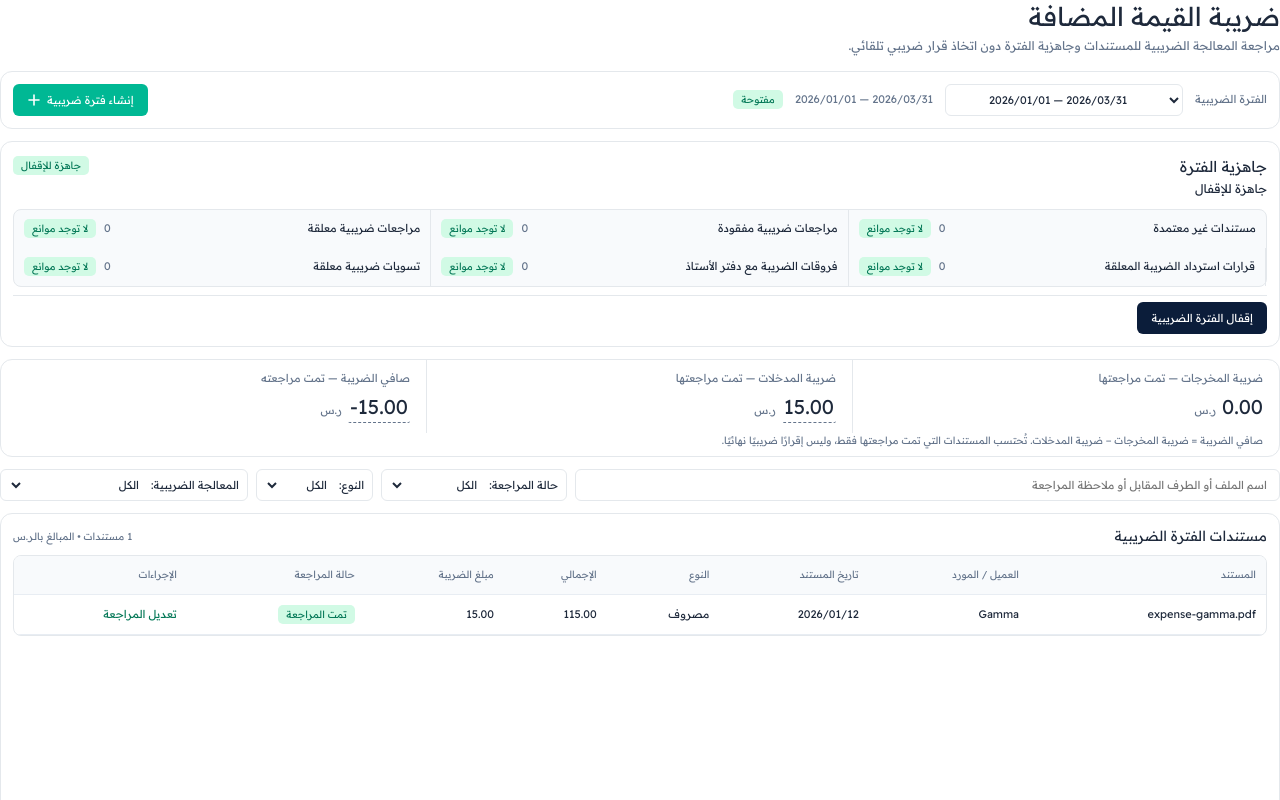
Test case: VAT review workspace › labels the recoverability workflow in Arabic
Click the cell "expense-gamma.pdf".
click(1148, 614)  # box x1=1029 y1=594 x2=1266 y2=634
(page scrolled)
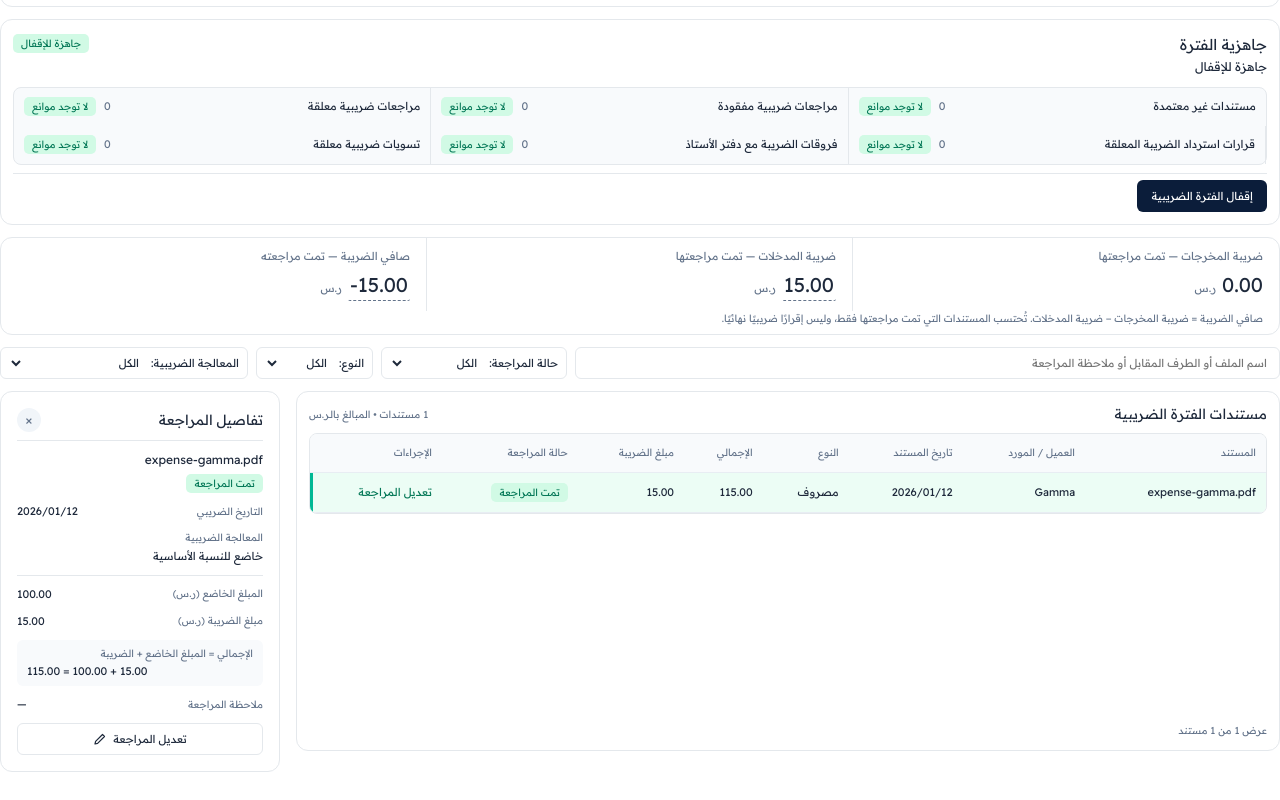
Click the button "تعديل المراجعة" below "ملاحظة المراجعة".
click(140, 739)  # box x1=17 y1=723 x2=263 y2=755
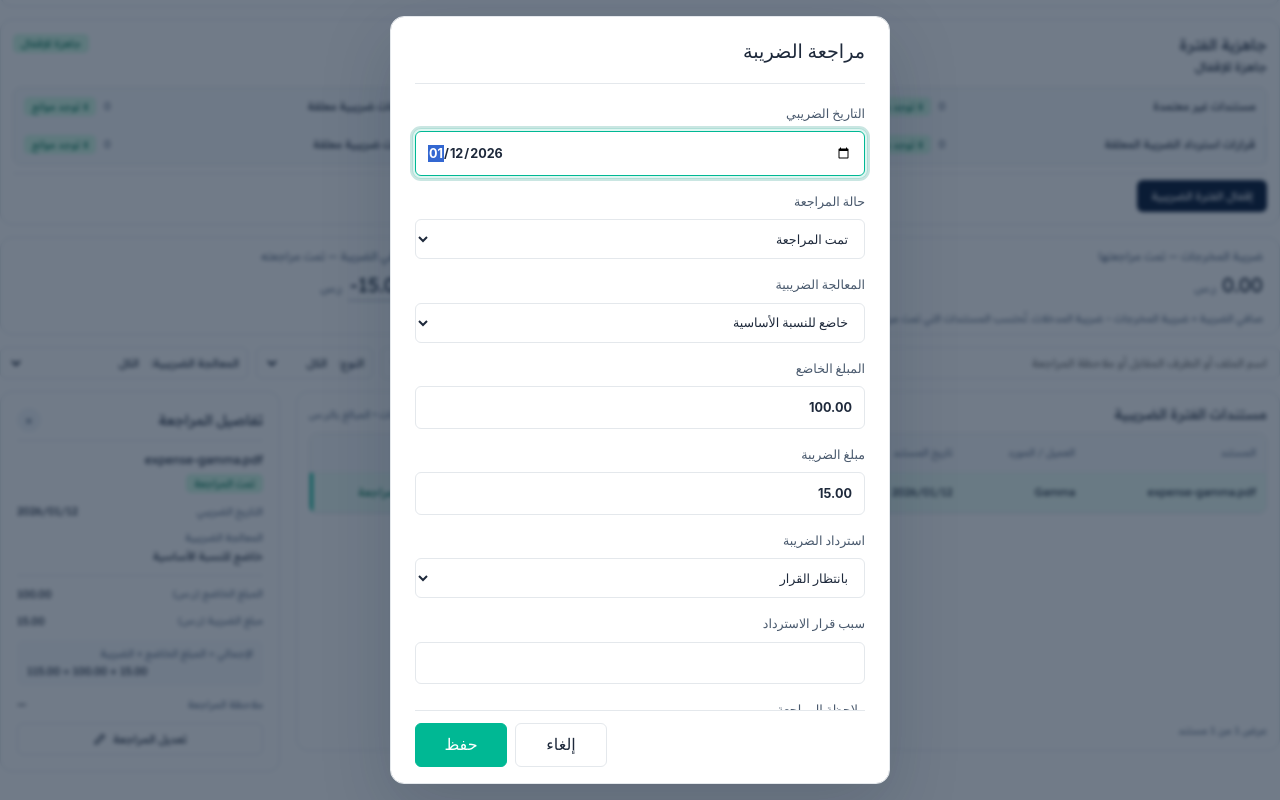
Result: the dropdown labelled "استرداد الضريبة" is shown at x1=415 y1=558 x2=865 y2=598
